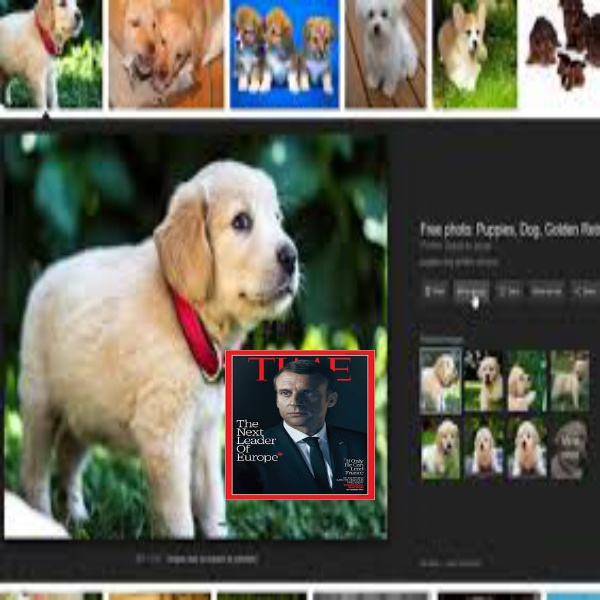time_cover: (213, 339, 380, 505)
